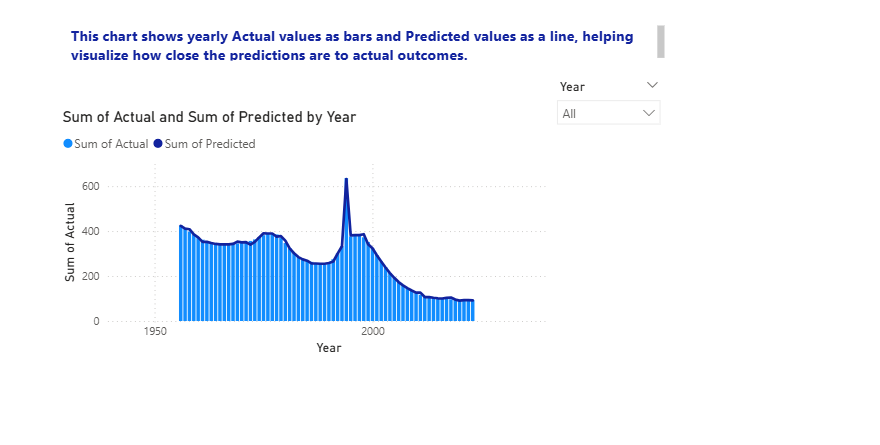

What the dashboard file says about the page in this screenshot:
{"tool":"powerbi","page":{"name":"Page 3","canvas":[1280,720],"ordinal":2},"visuals":[{"type":"lineClusteredColumnComboChart","fields":{"Category":["Rwanda_Infant_Mortality_FINAL.Year"],"Y":["Sum(Rwanda_Infant_Mortality_FINAL.Actual)"],"Y2":["Sum(Rwanda_Infant_Mortality_FINAL.Predicted)"]},"box":[78,122,562,280],"z":0},{"type":"textbox","box":[87,25,670,49],"z":1},{"type":"slicer","fields":{"Values":["Rwanda_Infant_Mortality_FINAL.Year"]},"box":[622,85,135,74],"z":2}]}

Visuals, with their boxes on the page's 1280x720 design canvas (x1, y1, x2, y2). These are canvas units, not pixel positions in the 880x445 screenshot, which may show the page scaled, cropped or inside an application window:
lineClusteredColumnComboChart - Rwanda_Infant_Mortality_FINAL.Year x Sum(Rwanda_Infant_Mortality_FINAL.Actual): l=78, t=122, r=640, b=402
textbox: l=87, t=25, r=757, b=74
slicer - Rwanda_Infant_Mortality_FINAL.Year: l=622, t=85, r=757, b=159
